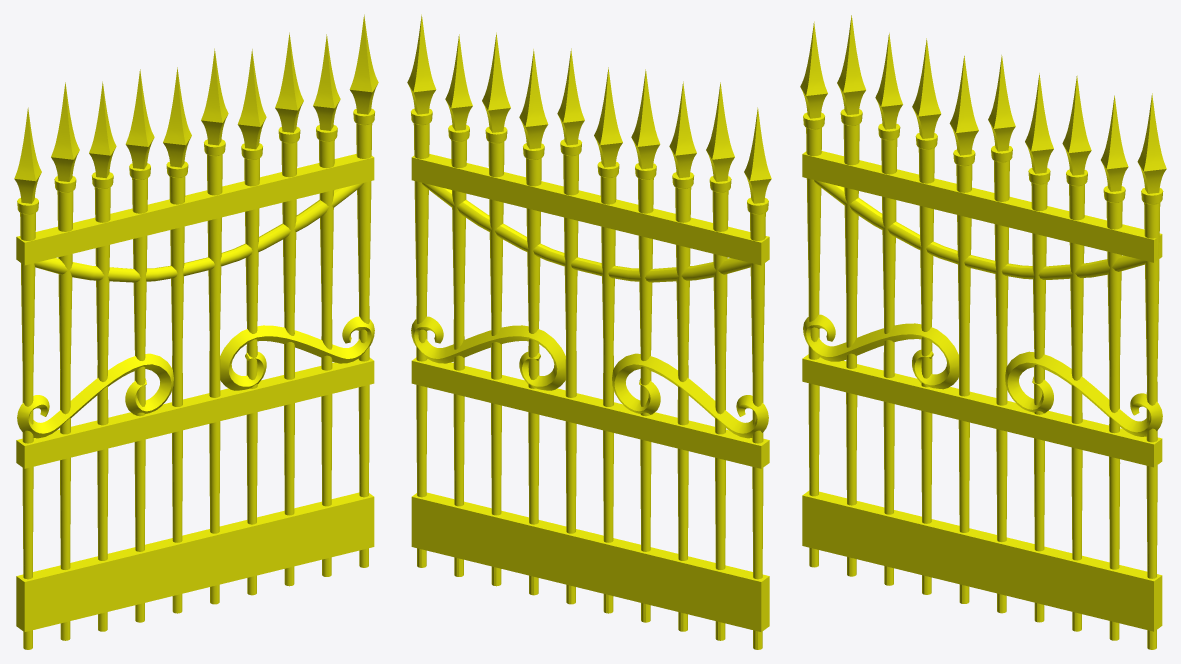
The model's file is prop-metalfence-ornament.glb.
3 renders of one model, left to right at view 1: azimuth 30°, elevation 25°; view 2: azimuth 150°, elevation 25°; view 3: azimuth 330°, elevation 25°, orthographic.
Visible parts, largest first — view 1: Prop_MetalFence_Ornament; view 2: Prop_MetalFence_Ornament; view 3: Prop_MetalFence_Ornament.
Boxes of the visible parts, x1,y1,x2,y2 form: Prop_MetalFence_Ornament: (14,14,378,649); Prop_MetalFence_Ornament: (407,14,771,649); Prop_MetalFence_Ornament: (800,15,1166,649).
Size of the model in its own units: 1.95 by 2.85 by 0.1561.
1 material, 1 textured.
